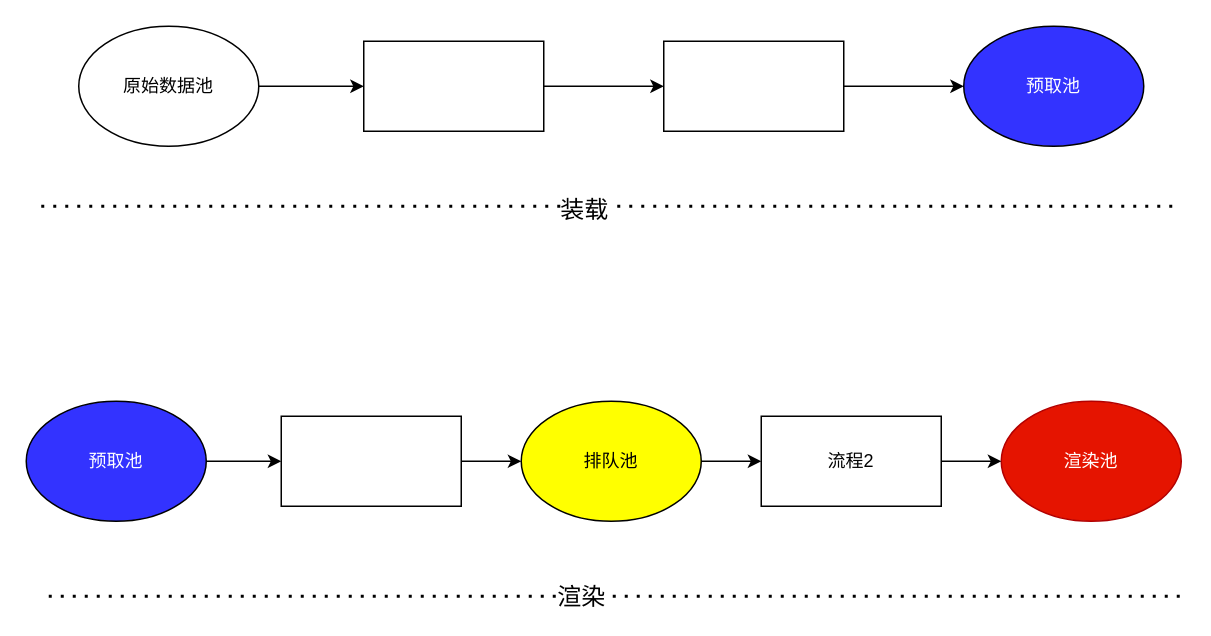
The diagram is 1211 pixels wide and 636 high, and some of its shapes have lost their labels. Each missing label, with the box of its shape:
流程1: (280, 415, 461, 506)
清空预取池: (362, 40, 544, 131)
预取时间段内的数据: (662, 40, 844, 131)
